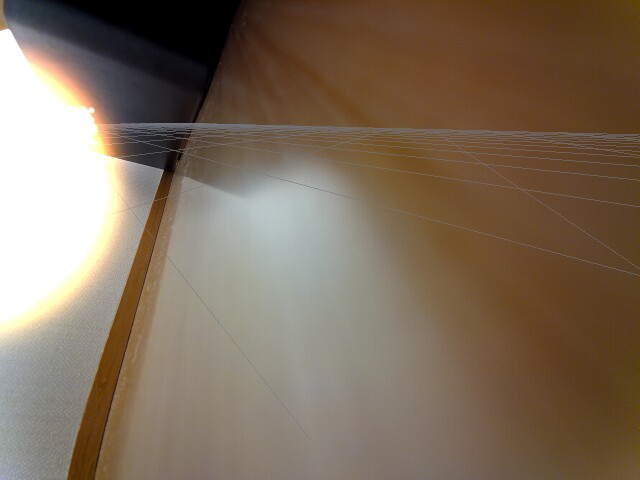firebig: (0, 0, 132, 346)
